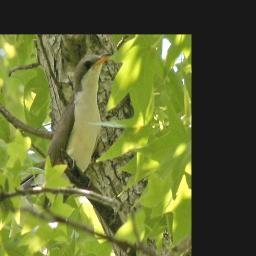Cuckoo: (19, 49, 115, 210)
